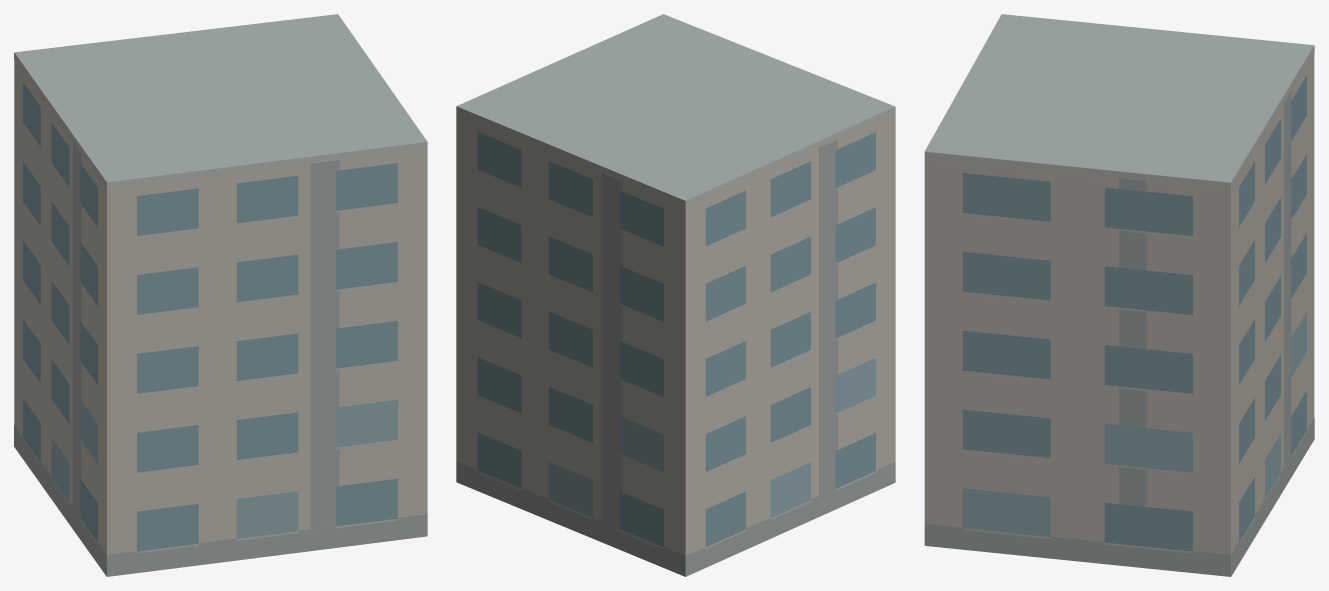
Rendered from survey-upis-32971462.glb.
3 views of the same model, side by side, from view 1: azimuth 30°, elevation 25°; view 2: azimuth 150°, elevation 25°; view 3: azimuth 270°, elevation 25° (orthographic). The views are drawn at different scales.
Visible parts, largest first — view 1: survey-upis-32971462.tmp; view 2: survey-upis-32971462.tmp; view 3: survey-upis-32971462.tmp.
Boxes of the visible parts, x1,y1,x2,y2 form: survey-upis-32971462.tmp: (14, 14, 427, 576); survey-upis-32971462.tmp: (456, 14, 895, 576); survey-upis-32971462.tmp: (924, 14, 1314, 576).
Size of the model in its own units: 12.22 by 13.3 by 11.93.
